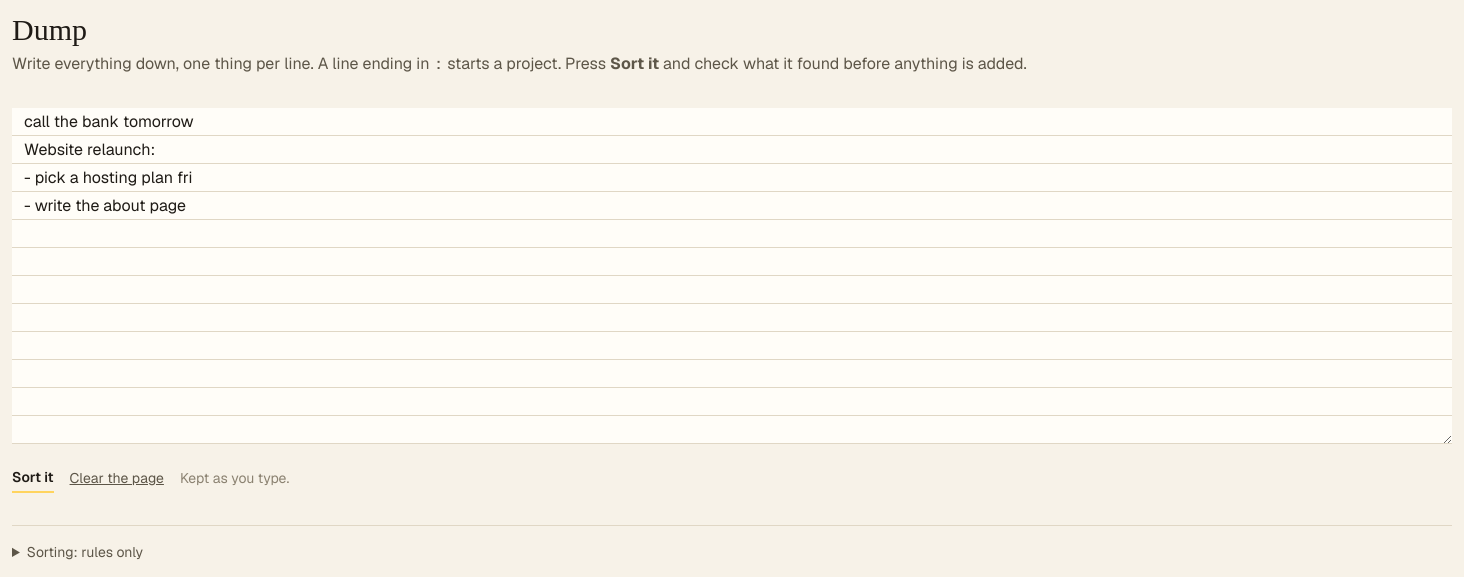
Test: Dump screen › shows what it found without adding anything yet
Click the button "Sort it" at (33, 478), box top-left (12, 463), bottom-right (54, 493)
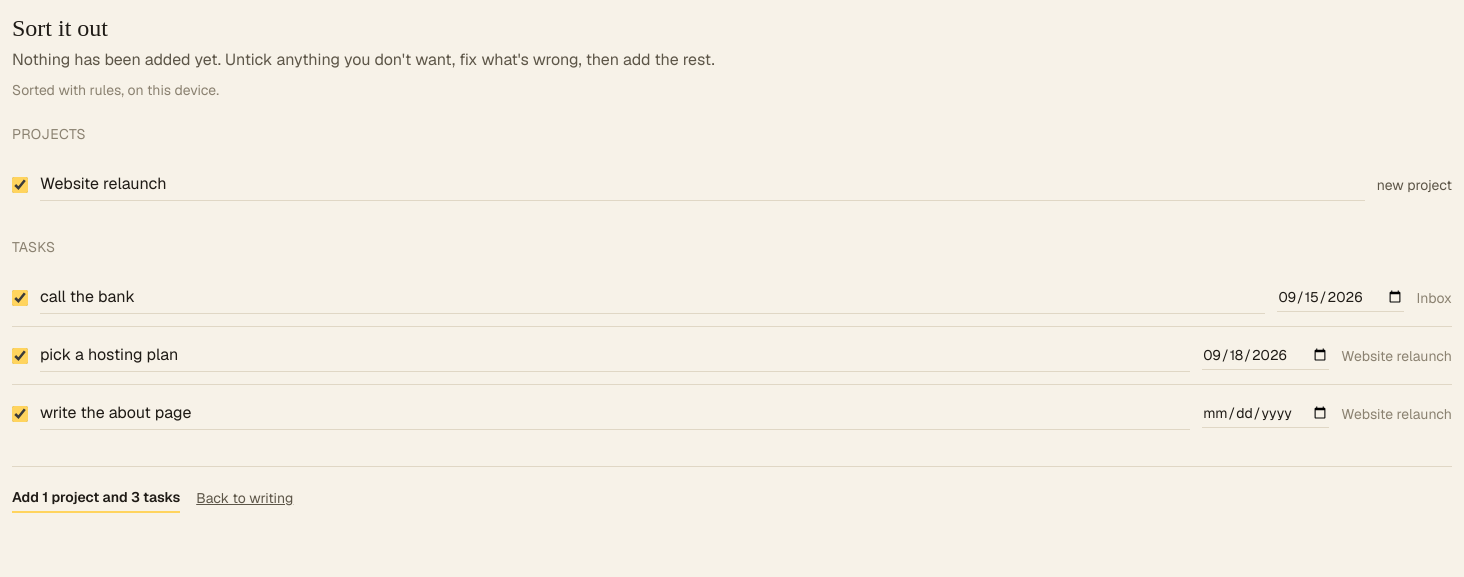
Expected: the heading "Sort it out" is shown, top-left (12, 15), bottom-right (108, 41)
Expected: the checkbox named "Keep project “Website relaunch”" in the row of "new project" is checked, top-left (12, 176), bottom-right (28, 192)
Expected: the checkbox named "Keep task “call the bank”" in the row of "Inbox" is checked, top-left (12, 290), bottom-right (28, 306)
